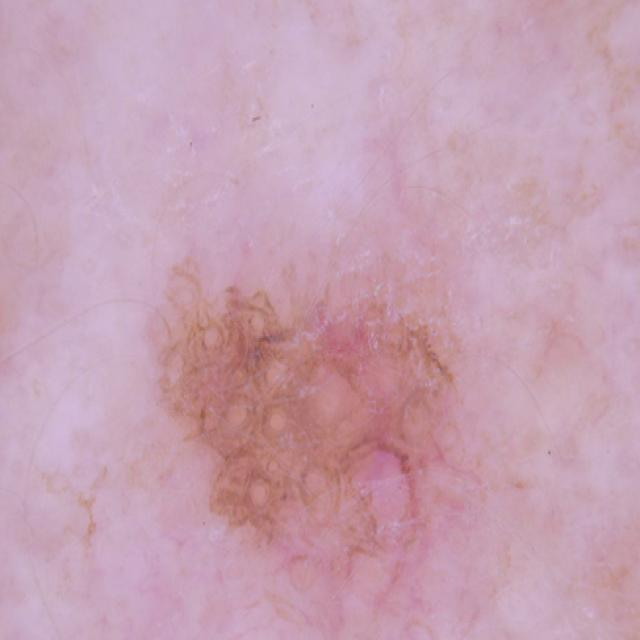Keratosis: (132, 205, 501, 607)
